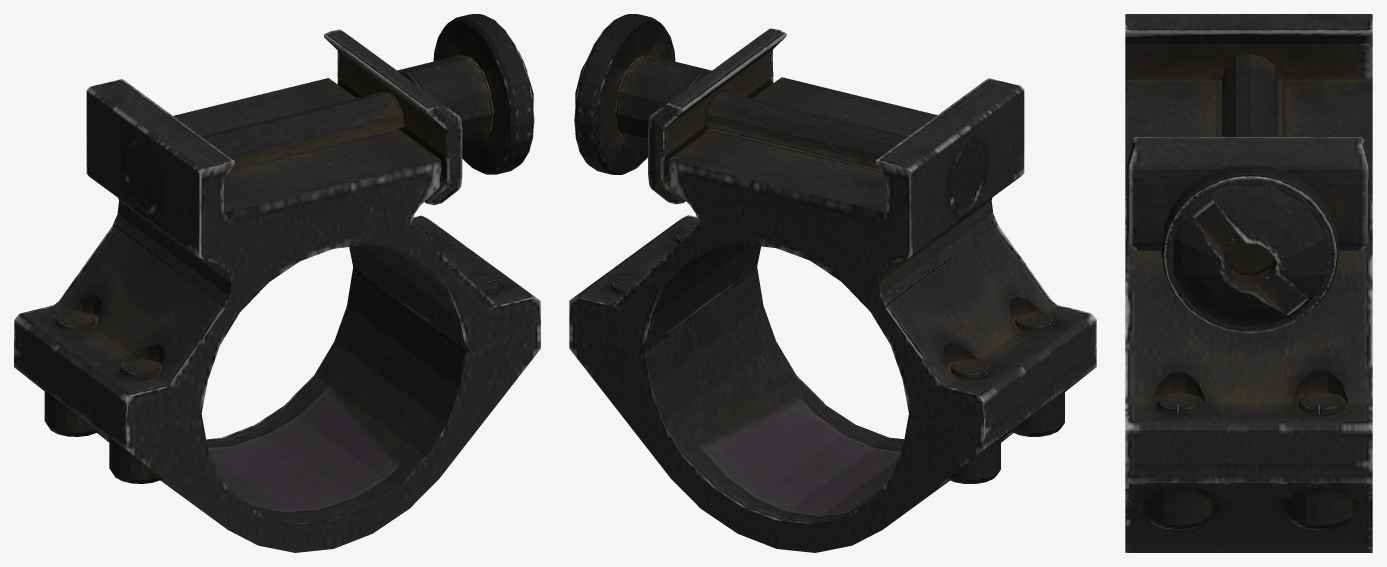
3 renders of one model, left to right at view 1: azimuth 30°, elevation 25°; view 2: azimuth 150°, elevation 25°; view 3: azimuth 270°, elevation 25°, orthographic. The views are drawn at different scales.
Visible parts, largest first — view 1: TW_57d17e212459775a1179a0f5_PZ_Import; view 2: TW_57d17e212459775a1179a0f5_PZ_Import; view 3: TW_57d17e212459775a1179a0f5_PZ_Import.
Part boxes in pixels (left/top/right/bottom): TW_57d17e212459775a1179a0f5_PZ_Import: left=14, top=14, right=540, bottom=552; TW_57d17e212459775a1179a0f5_PZ_Import: left=569, top=14, right=1096, bottom=552; TW_57d17e212459775a1179a0f5_PZ_Import: left=1125, top=14, right=1372, bottom=552.
Bounding box in the file's own units: 0.025 × 0.0109 × 0.0232.
Materials: 1 (1 with a texture image).
